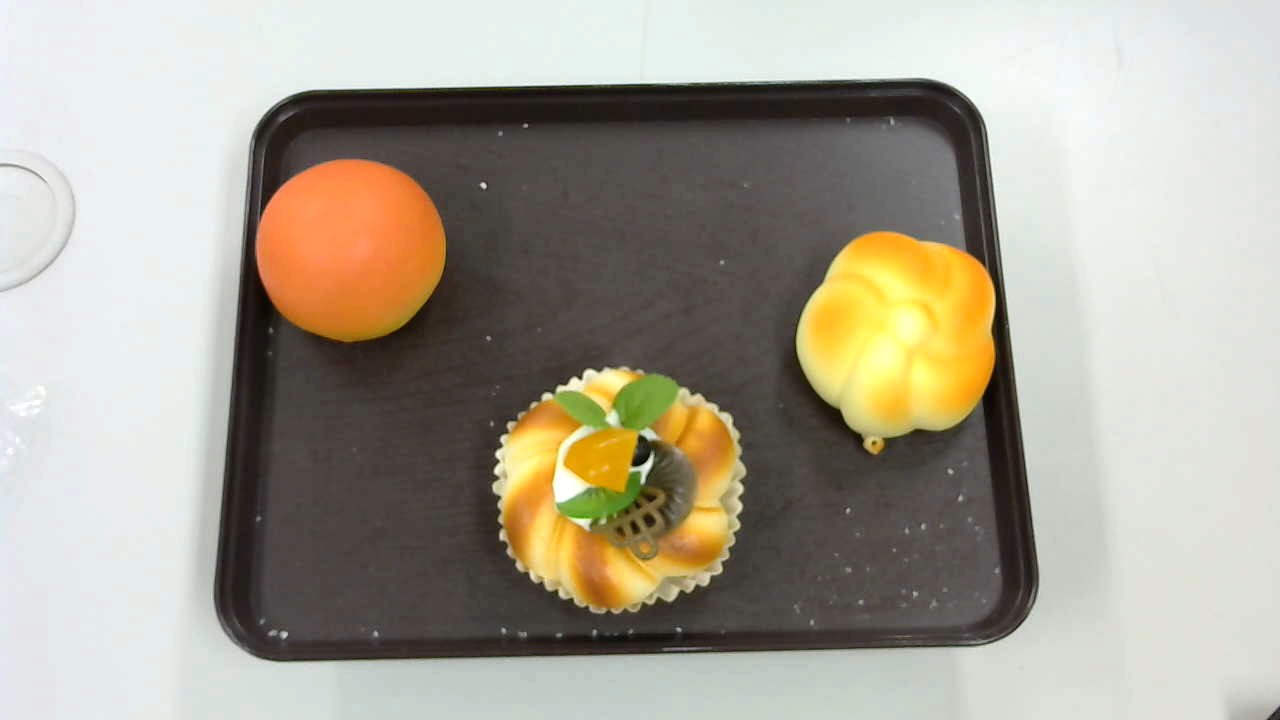bun: (257, 158, 445, 342)
croissant: (795, 230, 996, 452)
fruit tart: (494, 367, 746, 614)
